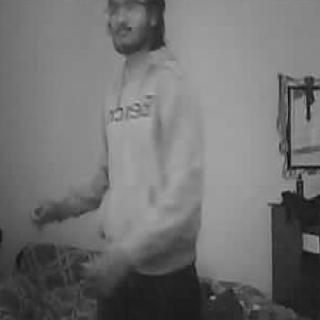Navy Sweatpants: (96, 270, 203, 320)
Yellow Hoodie: (96, 51, 208, 270)
